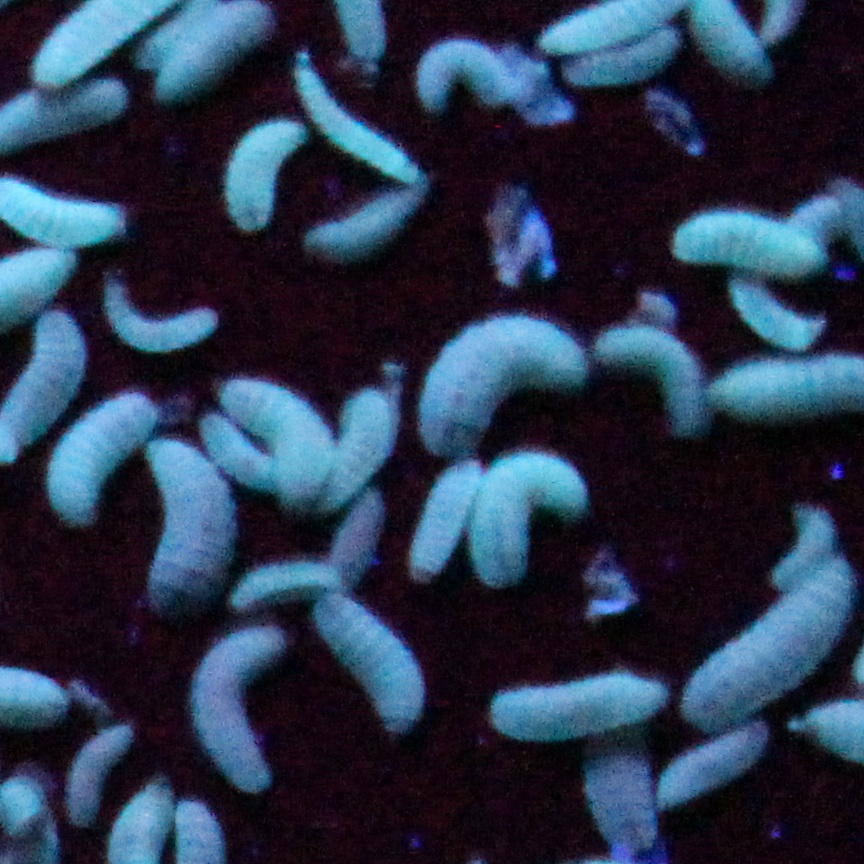larve: (419, 326, 602, 446), (292, 575, 429, 717), (210, 377, 331, 519), (477, 460, 621, 573), (287, 50, 412, 180), (575, 312, 724, 419), (187, 636, 292, 787), (144, 437, 233, 614), (52, 403, 174, 524), (492, 682, 670, 751), (305, 390, 403, 514), (651, 717, 772, 817), (152, 1, 280, 95), (221, 109, 308, 236), (412, 446, 485, 585), (38, 3, 157, 86), (675, 212, 816, 278), (105, 275, 210, 354), (320, 180, 426, 255), (420, 36, 510, 119), (680, 1, 774, 75), (66, 724, 138, 819), (539, 1, 674, 47), (214, 558, 365, 599), (198, 411, 275, 486), (561, 32, 667, 83)
